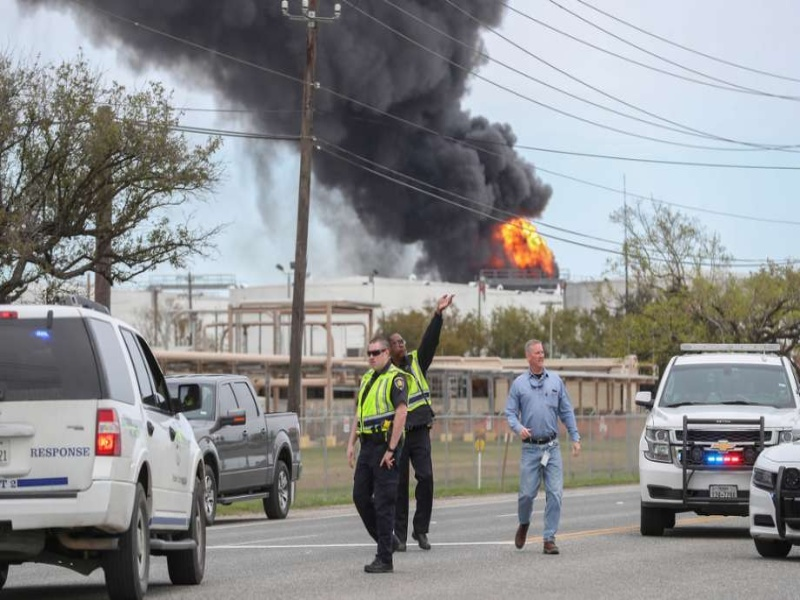smoke: (143, 1, 537, 213)
